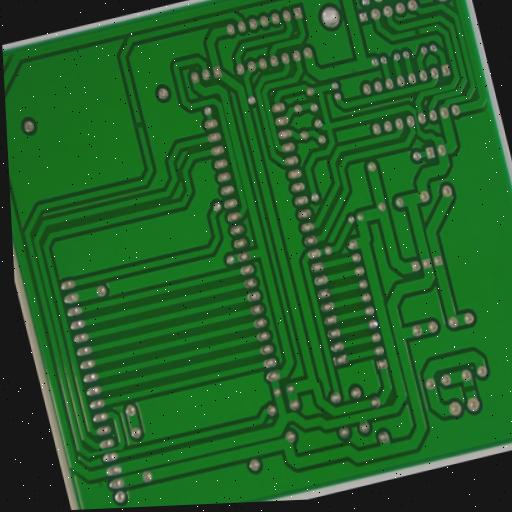open_circuit: (462, 382, 479, 397), (133, 118, 146, 132), (411, 26, 423, 39)
